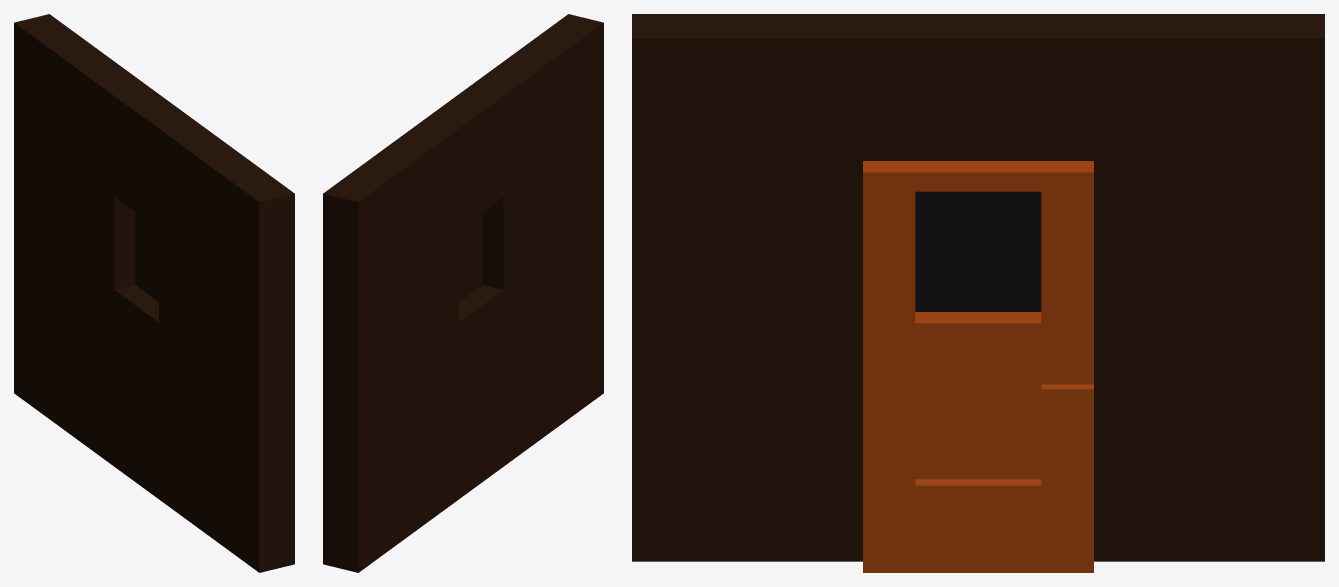
Rendered from WallDoor.FBX.
3 views of the same model, side by side, from view 1: azimuth 30°, elevation 25°; view 2: azimuth 150°, elevation 25°; view 3: azimuth 270°, elevation 25° (orthographic). The views are drawn at different scales.
Parts seen in each view (by area): view 1: WallDoor; view 2: WallDoor; view 3: WallDoor.
Part boxes in pixels (left/top/right/bottom): WallDoor: left=14, top=14, right=294, bottom=572; WallDoor: left=323, top=14, right=603, bottom=572; WallDoor: left=632, top=14, right=1324, bottom=572.
Size of the model in its own units: 0.4159 by 2.5 by 3.
